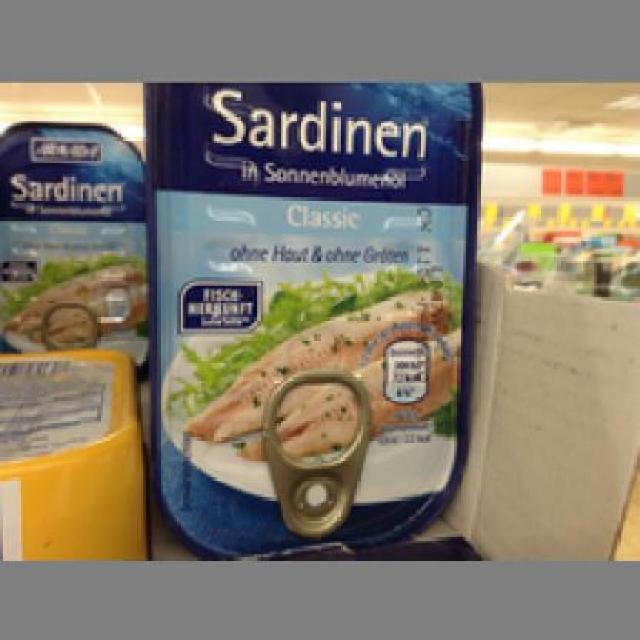Fish: (140, 79, 480, 552), (0, 120, 149, 360)
